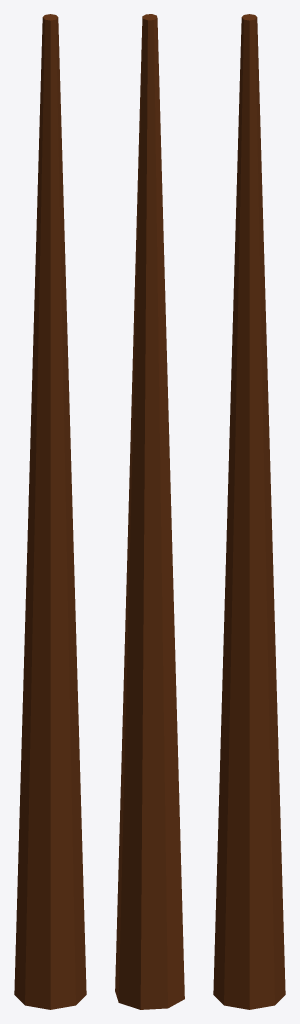
Rendered from tree.dae.
3 renders of one model, left to right at view 1: azimuth 90°, elevation 25°; view 2: azimuth 210°, elevation 25°; view 3: azimuth 270°, elevation 25°, orthographic.
Parts seen in each view (by area): view 1: Cylinder; view 2: Cylinder; view 3: Cylinder.
Boxes of the visible parts, x1=… form: Cylinder: x1=14, y1=14, x2=86, y2=1009; Cylinder: x1=115, y1=14, x2=184, y2=1009; Cylinder: x1=213, y1=14, x2=285, y2=1009.
Bounding box in the file's own units: 0.134 × 0.134 × 2.
